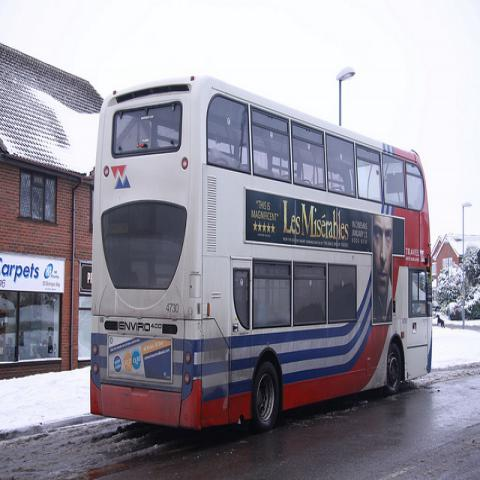bus: (91, 73, 432, 436)
